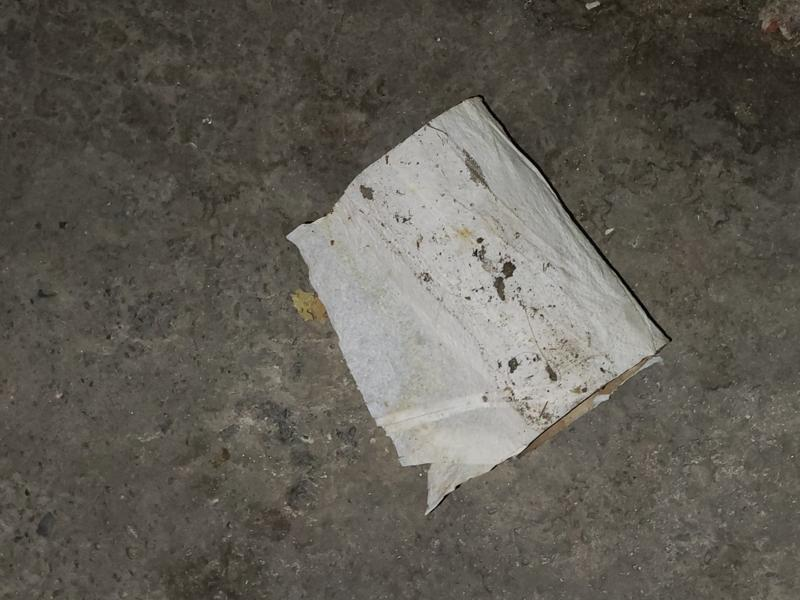papel: (286, 97, 671, 511)
